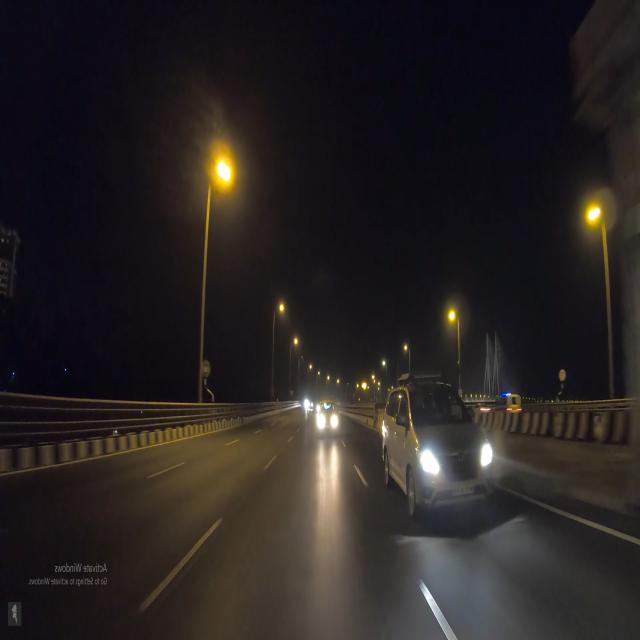headlights: (410, 429, 501, 496), (313, 408, 342, 436)
